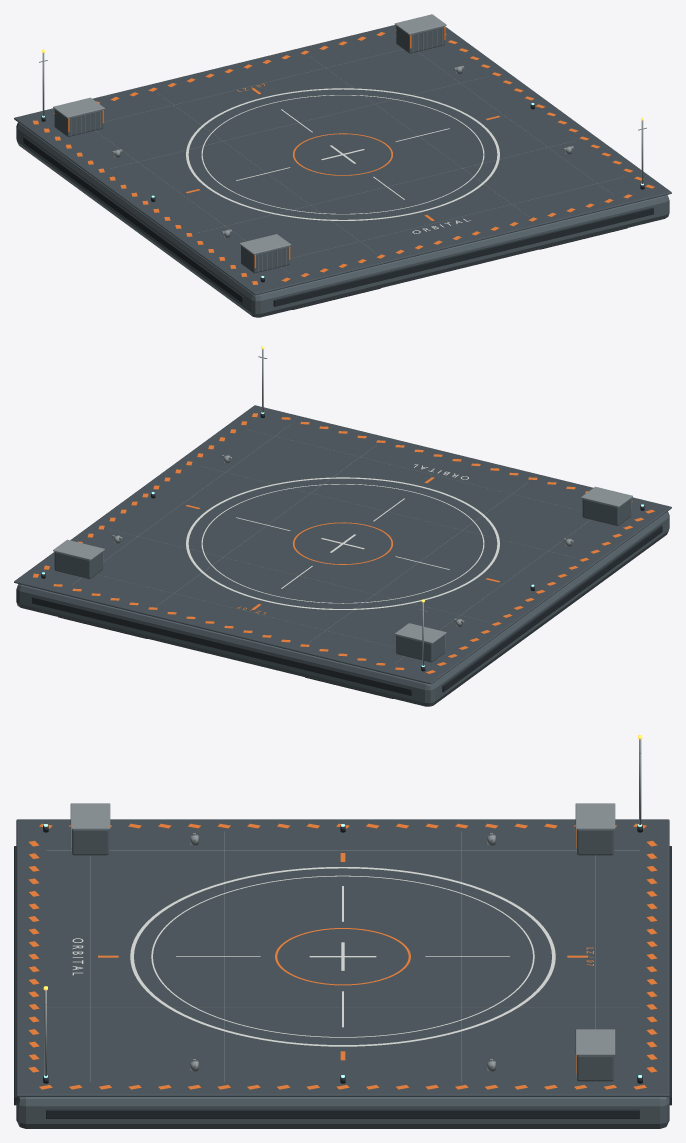
Rendered from platform.glb.
The picture shows the model from 3 angles, top to bottom: view 1: azimuth 30°, elevation 25°; view 2: azimuth 150°, elevation 25°; view 3: azimuth 270°, elevation 25°; orthographic projection. The views are drawn at different scales.
Visible parts, largest first — view 1: platform_wet_steel_deck, platform_barge_hull, platform_carbon_thermal_shield, platform_brushed_titanium, platform_deck_ivory, platform_mission_orange; view 2: platform_wet_steel_deck, platform_barge_hull, platform_carbon_thermal_shield, platform_brushed_titanium, platform_deck_ivory, platform_mission_orange; view 3: platform_wet_steel_deck, platform_barge_hull, platform_carbon_thermal_shield, platform_brushed_titanium, platform_deck_ivory, platform_mission_orange.
Part boxes in pixels (bbox=[...]): platform_wet_steel_deck: bbox=[14, 25, 671, 295]; platform_barge_hull: bbox=[16, 26, 669, 317]; platform_carbon_thermal_shield: bbox=[23, 104, 653, 309]; platform_brushed_titanium: bbox=[39, 14, 646, 272]; platform_deck_ivory: bbox=[186, 88, 499, 233]; platform_mission_orange: bbox=[33, 27, 654, 284]; platform_wet_steel_deck: bbox=[14, 405, 671, 684]; platform_barge_hull: bbox=[16, 498, 669, 706]; platform_carbon_thermal_shield: bbox=[32, 413, 662, 698]; platform_brushed_titanium: bbox=[53, 349, 632, 665]; platform_deck_ivory: bbox=[186, 464, 499, 609]; platform_mission_orange: bbox=[32, 413, 654, 673]; platform_wet_steel_deck: bbox=[16, 819, 669, 1096]; platform_barge_hull: bbox=[16, 829, 669, 1128]; platform_carbon_thermal_shield: bbox=[14, 825, 671, 1118]; platform_brushed_titanium: bbox=[44, 739, 641, 1081]; platform_deck_ivory: bbox=[72, 867, 555, 1046]; platform_mission_orange: bbox=[28, 823, 657, 1089].
Bounding box in the file's own units: 44.3 × 10.09 × 44.3.
